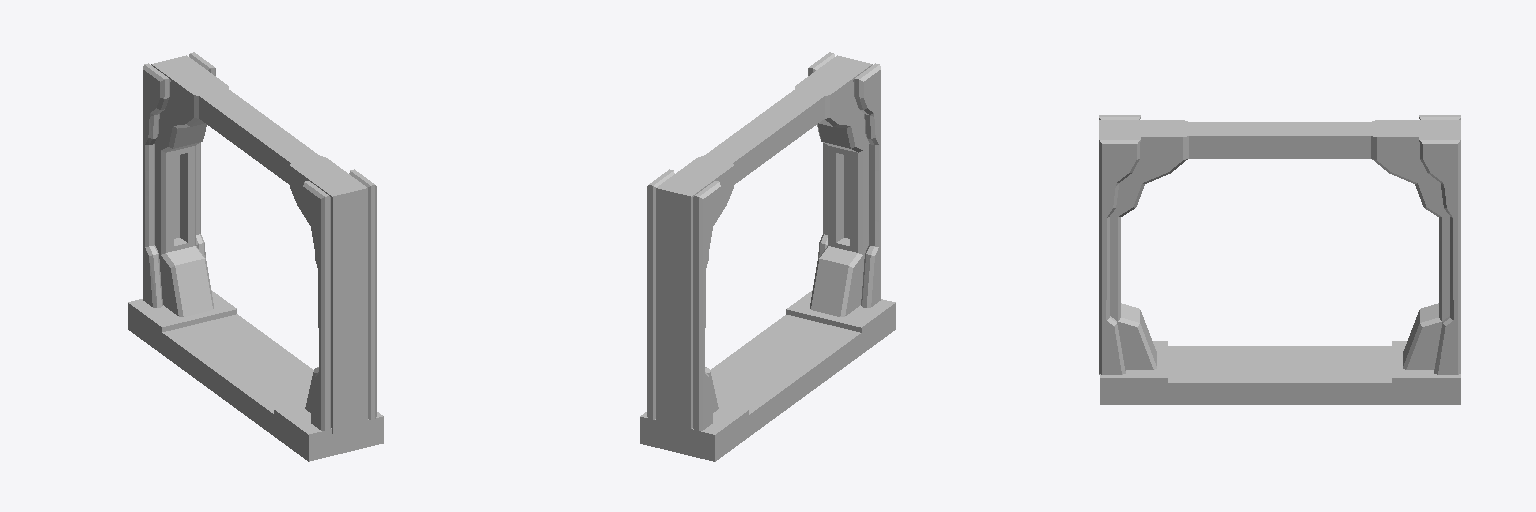
File: doorFrame.obj
3 views of the same model, side by side, from view 1: azimuth 30°, elevation 25°; view 2: azimuth 150°, elevation 25°; view 3: azimuth 270°, elevation 25° (orthographic).
Visible parts, largest first — view 1: group5 group1 pCube70, group5 group1 pCube53, pCube55 group5 group1, group5 group1 hallwaySection:pCube55, group5 group1 pCube67, group5 group1 pCube68, group5 group1 pCube66, group5 group1 pCube69; view 2: group5 group1 pCube53, group5 group1 pCube70, group5 group1 hallwaySection:pCube55, pCube55 group5 group1, group5 group1 pCube68, group5 group1 pCube67, group5 group1 pCube69, group5 group1 pCube66; view 3: group5 group1 pCube53, group5 group1 pCube70, group5 group1 hallwaySection:pCube55, pCube55 group5 group1, group5 group1 pCube69, group5 group1 pCube66.
Part boxes in pixels (left/top/right/bottom): group5 group1 pCube70: left=151, top=55, right=273, bottom=316; group5 group1 pCube53: left=245, top=123, right=367, bottom=433; pCube55 group5 group1: left=218, top=355, right=383, bottom=461; group5 group1 hallwaySection:pCube55: left=128, top=290, right=292, bottom=394; group5 group1 pCube67: left=303, top=181, right=330, bottom=430; group5 group1 pCube68: left=143, top=63, right=170, bottom=307; group5 group1 pCube66: left=349, top=169, right=376, bottom=419; group5 group1 pCube69: left=189, top=52, right=215, bottom=257; group5 group1 pCube53: left=750, top=55, right=872, bottom=316; group5 group1 pCube70: left=656, top=123, right=778, bottom=432; group5 group1 hallwaySection:pCube55: left=640, top=355, right=805, bottom=461; pCube55 group5 group1: left=731, top=290, right=895, bottom=394; group5 group1 pCube68: left=693, top=181, right=720, bottom=430; group5 group1 pCube67: left=853, top=63, right=880, bottom=307; group5 group1 pCube69: left=647, top=169, right=674, bottom=419; group5 group1 pCube66: left=808, top=52, right=834, bottom=257; group5 group1 pCube53: left=1099, top=120, right=1279, bottom=374; group5 group1 pCube70: left=1280, top=120, right=1460, bottom=369; group5 group1 hallwaySection:pCube55: left=1280, top=341, right=1460, bottom=404; pCube55 group5 group1: left=1100, top=341, right=1279, bottom=404; group5 group1 pCube69: left=1419, top=137, right=1460, bottom=374; group5 group1 pCube66: left=1099, top=137, right=1140, bottom=374.
Bounding box in the file's own units: 1.05 × 3.46 × 4.36.